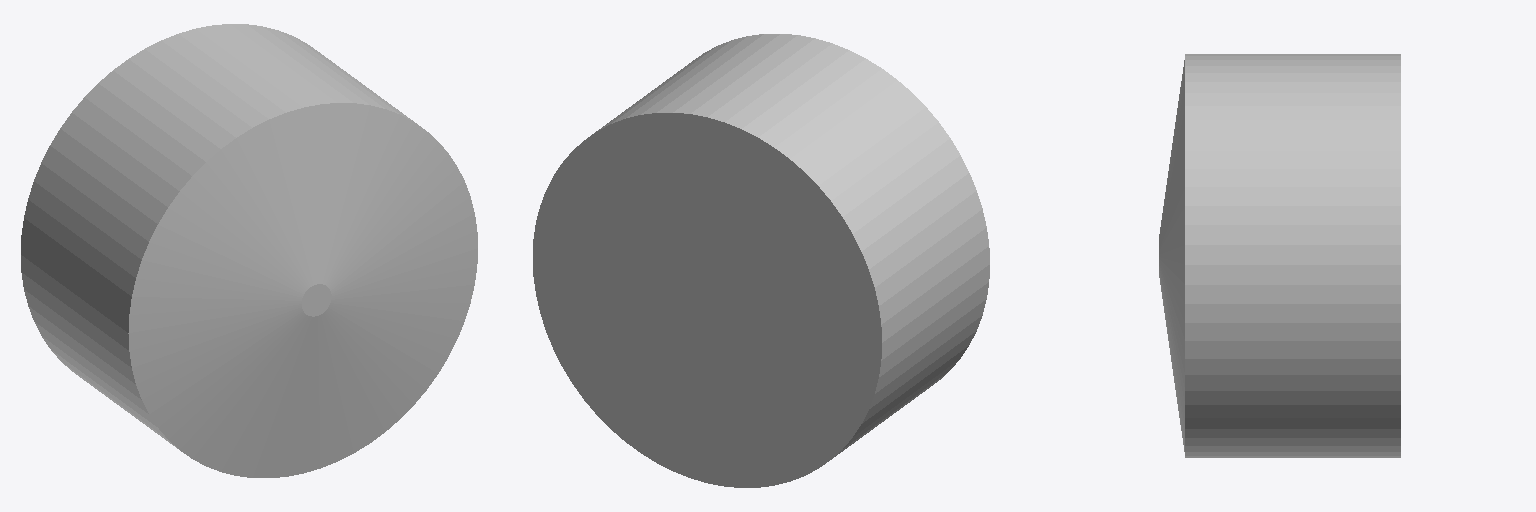
File: Candle1aux.obj
The picture shows the model from 3 angles: view 1: azimuth 30°, elevation 25°; view 2: azimuth 150°, elevation 25°; view 3: azimuth 270°, elevation 25°; orthographic projection.
Parts seen in each view (by area): view 1: Candle1aux_Cylinder.018; view 2: Candle1aux_Cylinder.018; view 3: Candle1aux_Cylinder.018.
Boxes of the visible parts, <box> form: Candle1aux_Cylinder.018: <box>21,24,477,477</box>; Candle1aux_Cylinder.018: <box>533,34,989,487</box>; Candle1aux_Cylinder.018: <box>1159,54,1400,457</box>.
Bounding box in the file's own units: 0.0943 × 0.0943 × 0.0566.